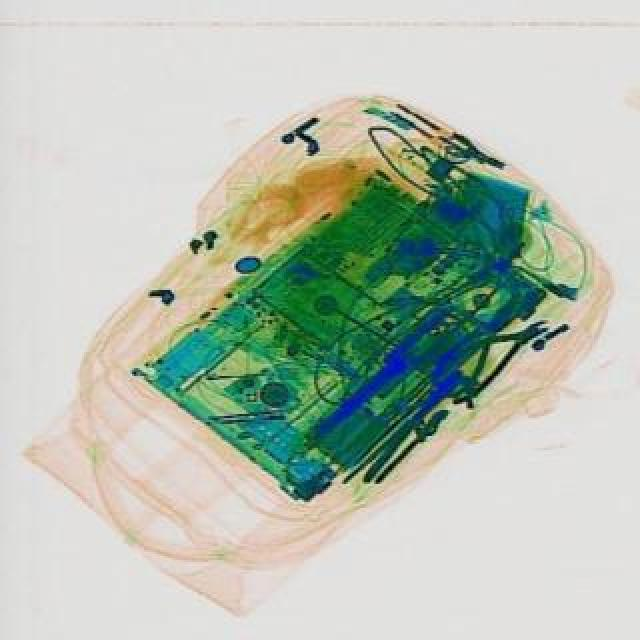wrench: (420, 298, 560, 410)
